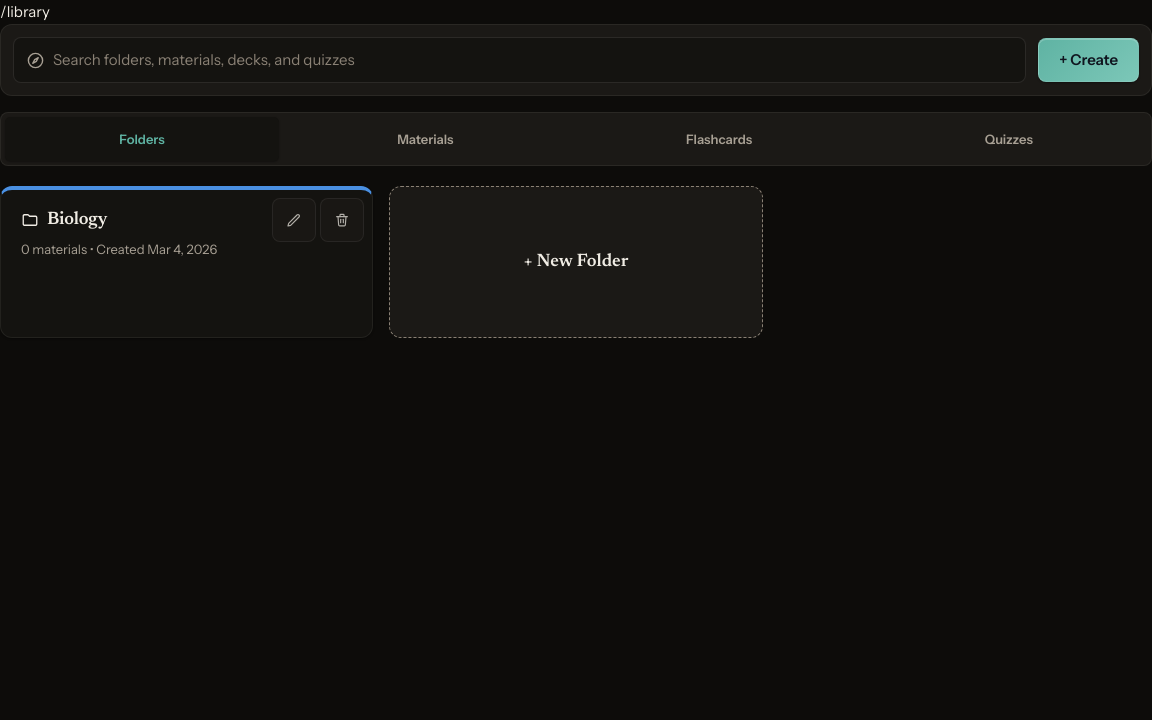
Test: Library — Folders tab › reports a failed delete instead of dropping the card
The width and height of the screenshot is (1152, 720).
Click the button named "Delete Biology" at (342, 220), box x1=320 y1=198 x2=364 y2=242
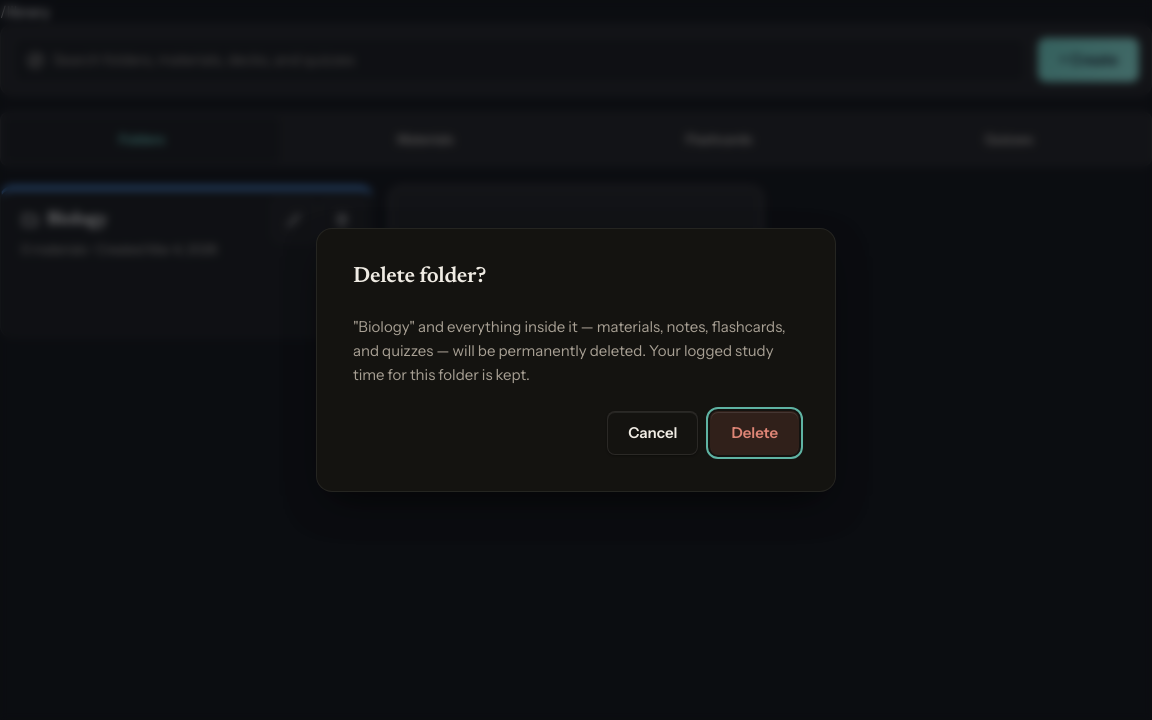
Click the button "Delete" at (755, 433), box x1=710 y1=411 x2=799 y2=455
Wait 4100 ms
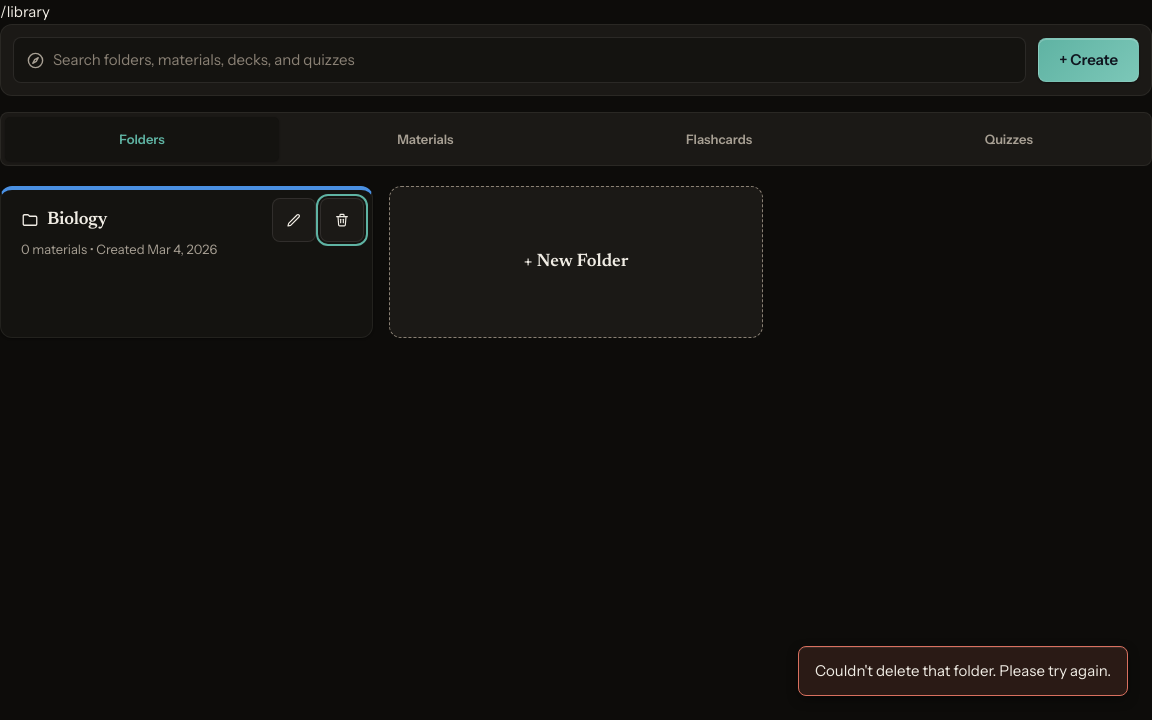
Expected: the heading "Biology" is shown, x1=21 y1=210 x2=107 y2=231
Result: the text "Couldn't delete that folder. Please try again." is shown at x1=798 y1=646 x2=1128 y2=696
